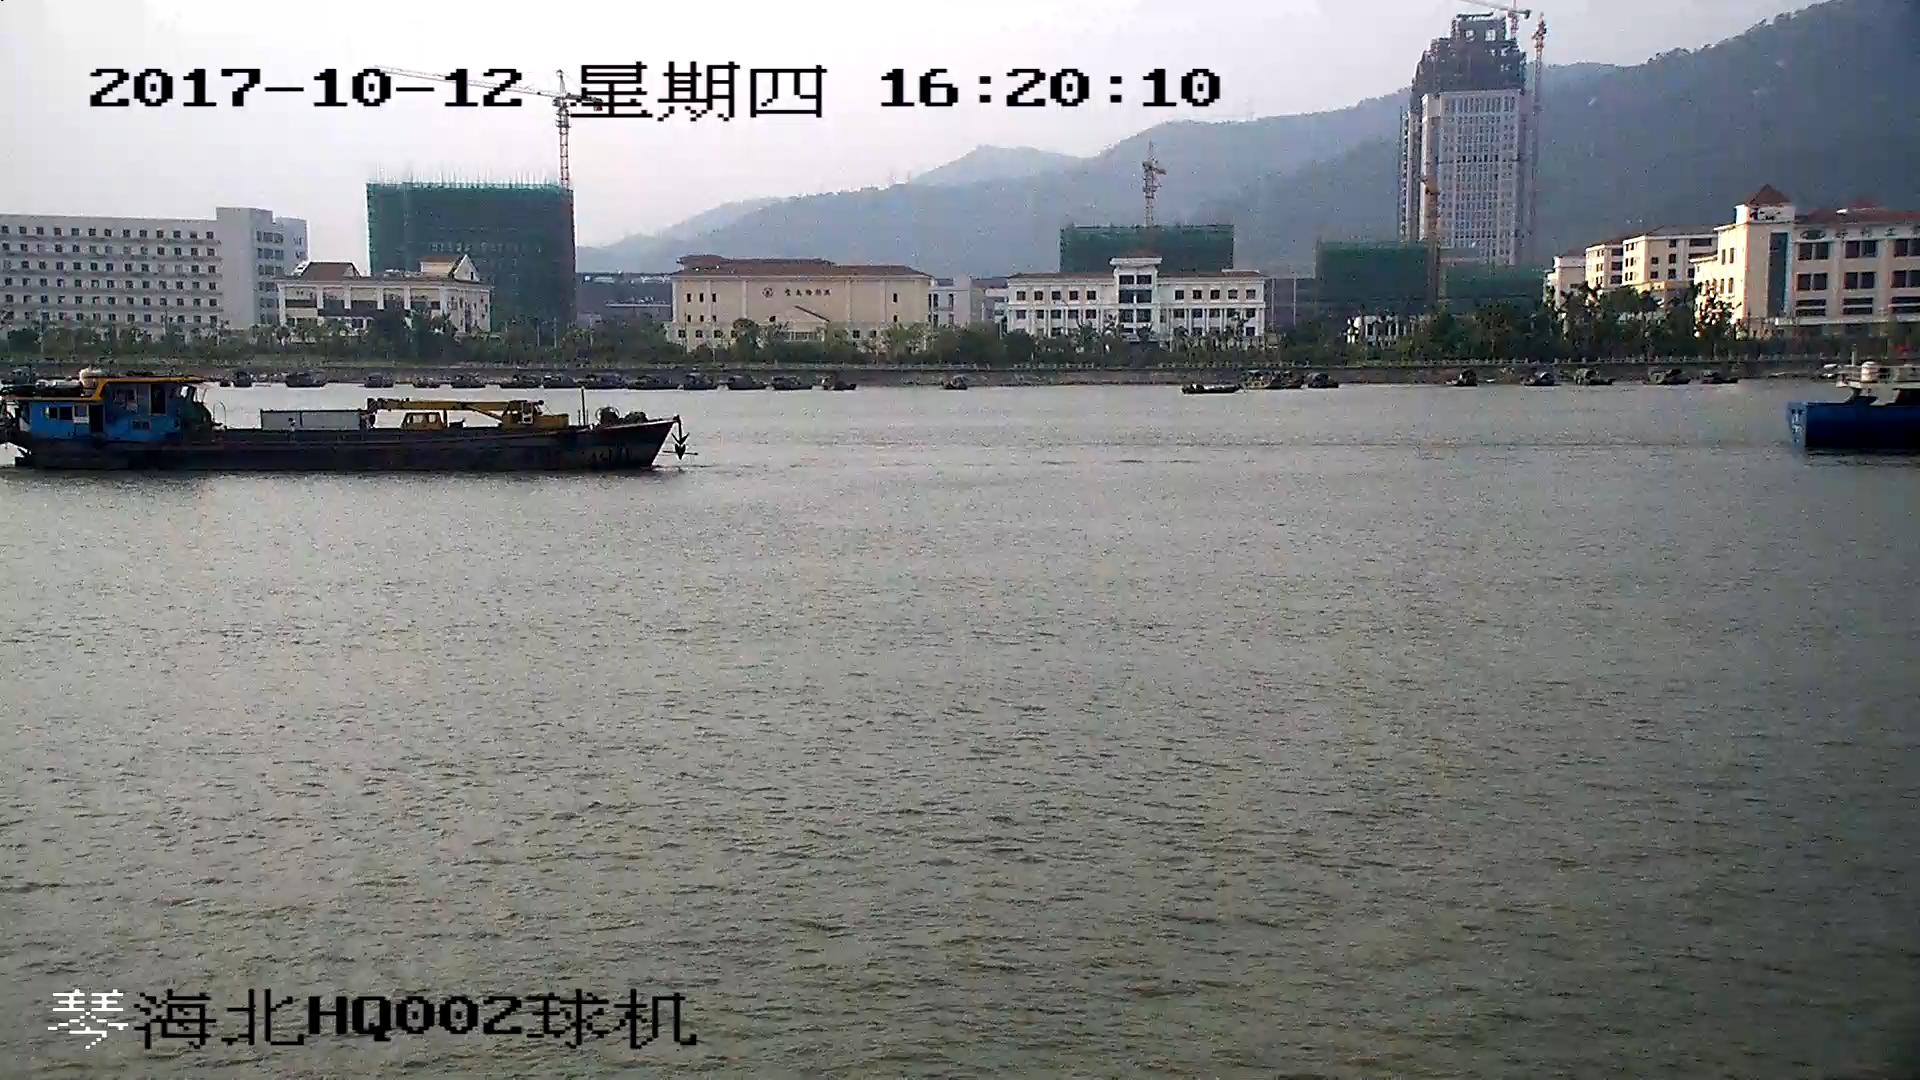fishing boat: (1, 374, 689, 475)
